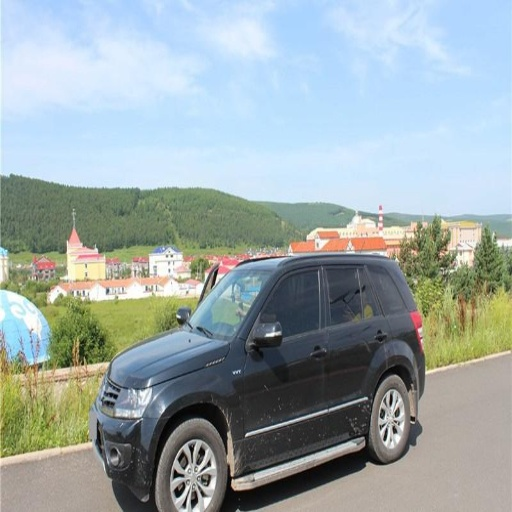back_left_door: (323, 261, 396, 437)
front_bumper: (96, 411, 159, 497)
front_glass: (189, 264, 269, 339)
front_left_door: (246, 262, 327, 464)
